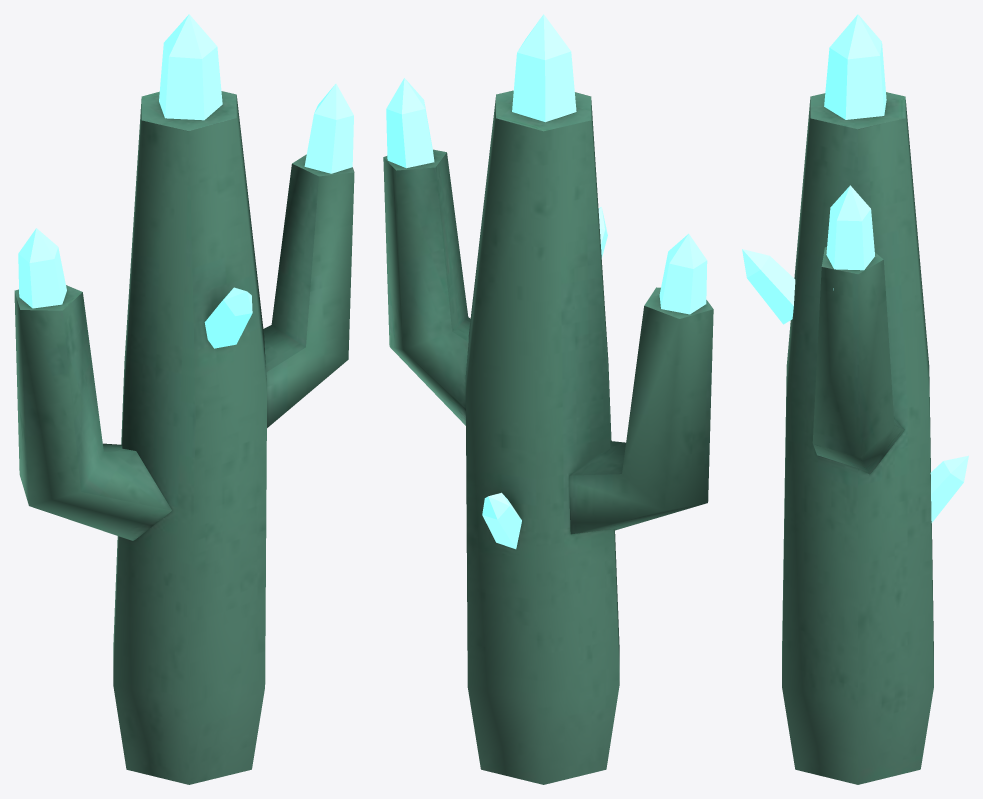
Rendered from cacto_cristal.glb.
The picture shows the model from 3 angles, left to right: view 1: azimuth 30°, elevation 25°; view 2: azimuth 150°, elevation 25°; view 3: azimuth 270°, elevation 25°; orthographic projection.
Visible parts, largest first — view 1: cacto_cristal_corpo; view 2: cacto_cristal_corpo; view 3: cacto_cristal_corpo.
Boxes of the visible parts, x1,y1,x2,y2 form: cacto_cristal_corpo: (14,14,354,784); cacto_cristal_corpo: (383,14,713,784); cacto_cristal_corpo: (742,14,968,784).
Size of the model in its own units: 0.48 by 1.03 by 0.2861.
2 materials, 1 textured.
